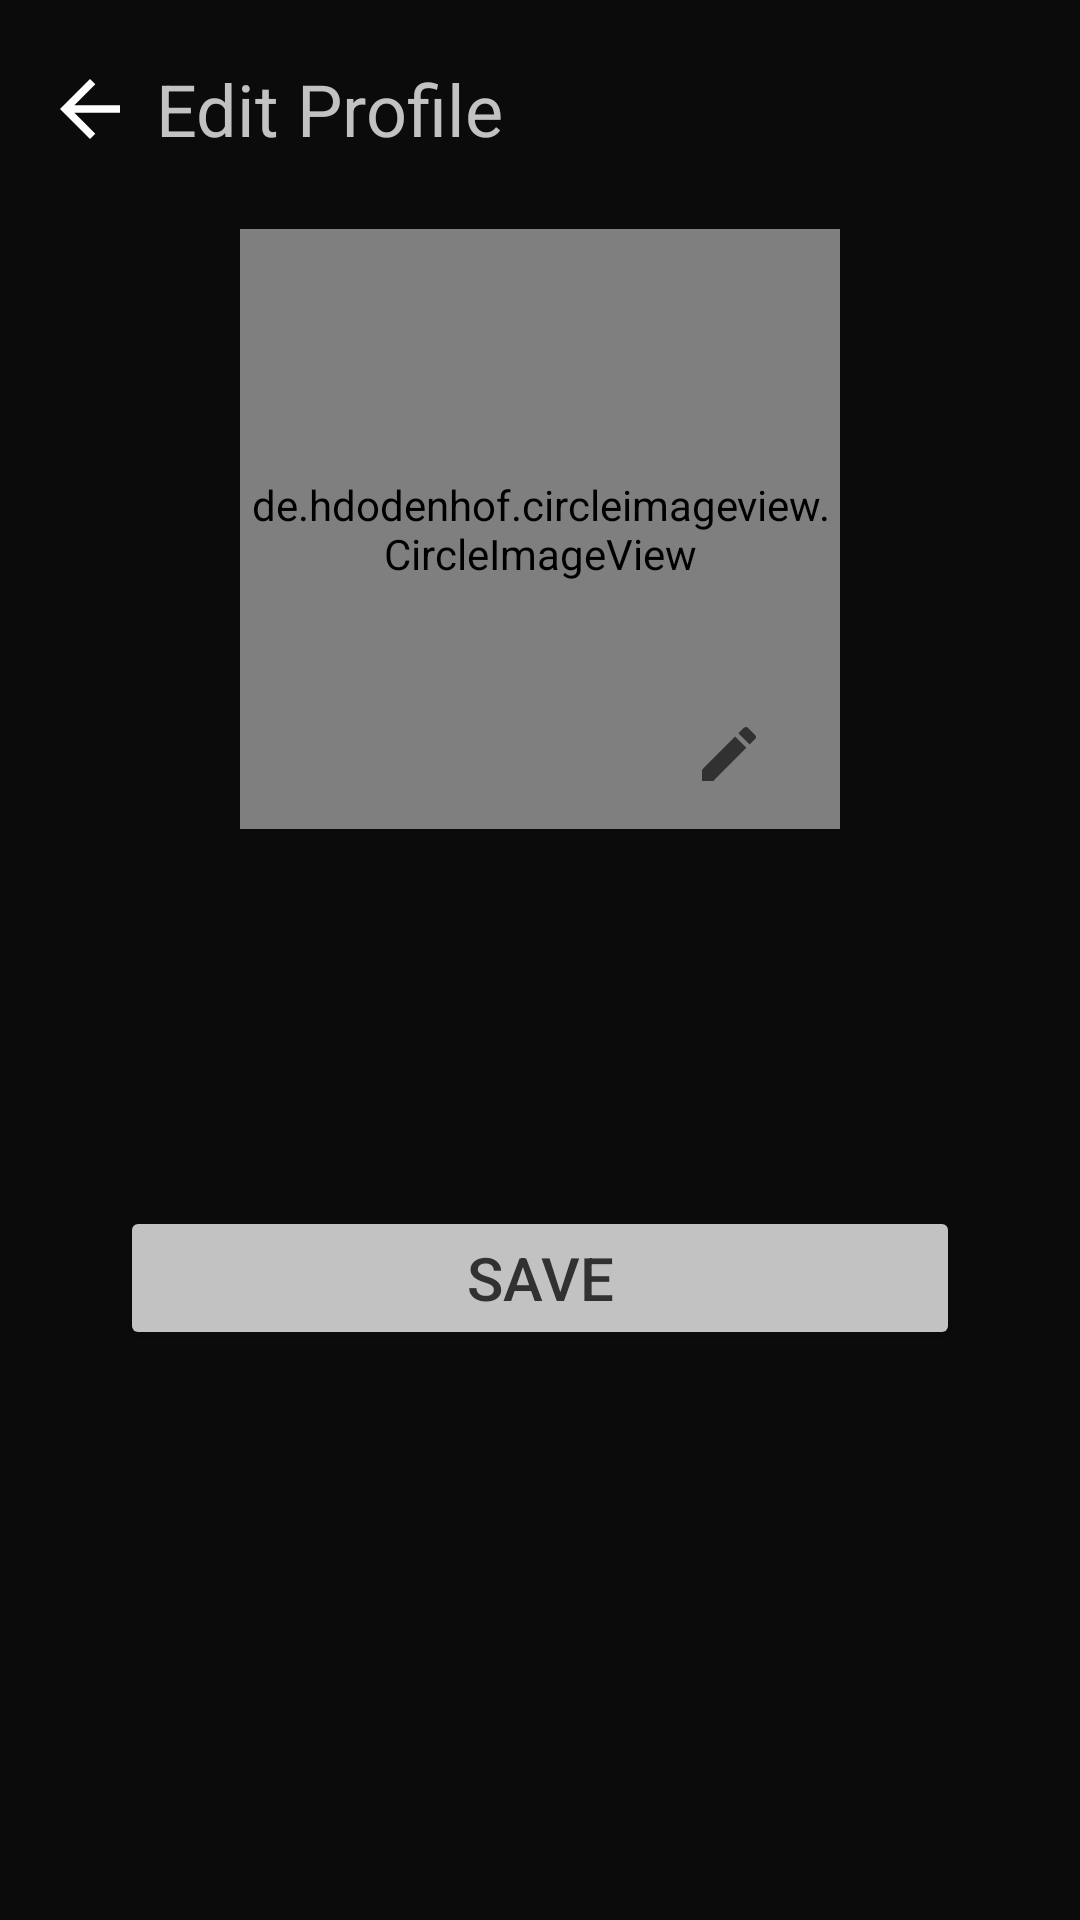

Locate icon controls on the screen. Image size 1080px×1920px, boxes as (x1, y1, x2, y2).
arrow back: (60, 79, 120, 139)
edit: (702, 727, 756, 781)
